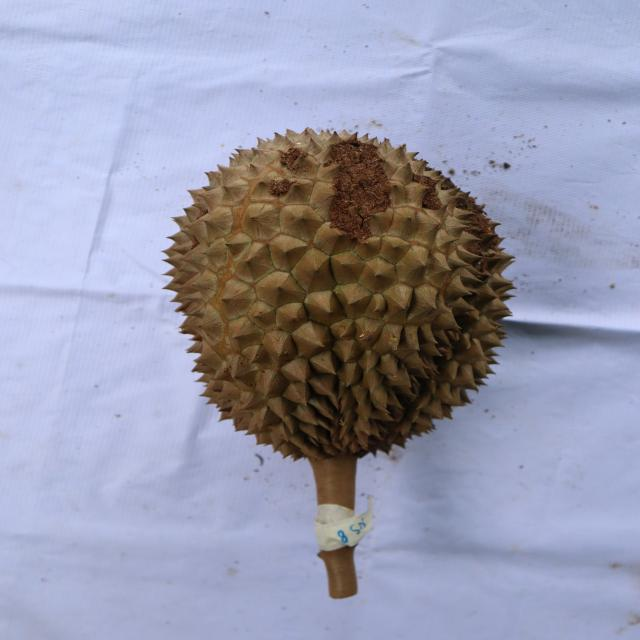defective: (165, 131, 520, 462)
